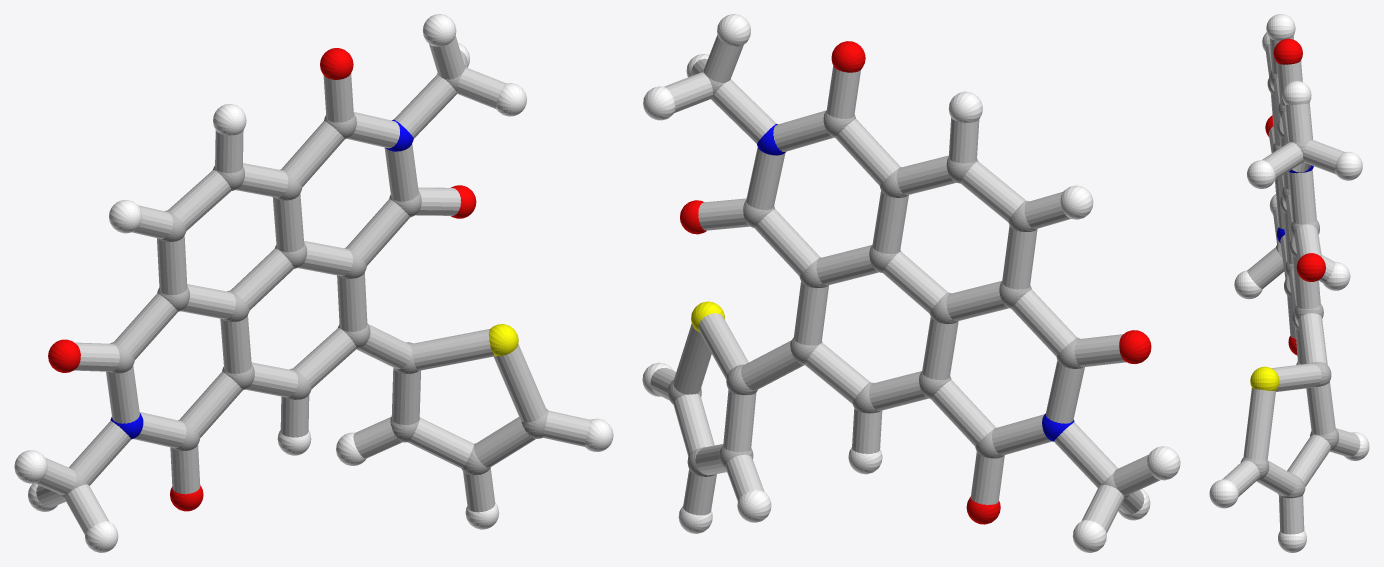
Rendered from Dimethyl_Naphthalene_Dicarboximide_Phi_30_Theta_210_Thiophene.glb.
3 views of the same model, side by side, from view 1: azimuth 30°, elevation 25°; view 2: azimuth 150°, elevation 25°; view 3: azimuth 270°, elevation 25° (orthographic). The views are drawn at different scales.
Parts seen in each view (by area): view 1: grp14119, grp7241, grp1, grp12309, grp13757, grp11585; view 2: grp14119, grp7241, grp1, grp12309, grp11585; view 3: grp14119, grp7241, grp1, grp12309, grp13757.
Part boxes in pixels (<box>): grp14119: <box>35,36,590,534</box>; grp7241: <box>14,14,613,552</box>; grp1: <box>59,65,548,498</box>; grp12309: <box>48,48,476,511</box>; grp13757: <box>488,324,518,356</box>; grp11585: <box>110,119,413,439</box>; grp14119: <box>650,35,1160,533</box>; grp7241: <box>642,14,1180,552</box>; grp1: <box>667,69,1128,499</box>; grp12309: <box>680,41,1151,524</box>; grp11585: <box>757,124,1074,441</box>; grp14119: <box>1222,36,1360,534</box>; grp7241: <box>1209,14,1369,552</box>; grp1: <box>1240,71,1339,498</box>; grp12309: <box>1265,38,1325,355</box>; grp13757: <box>1250,366,1279,390</box>.
Bounding box in the file's own units: 11.53 × 10.24 × 3.28.
